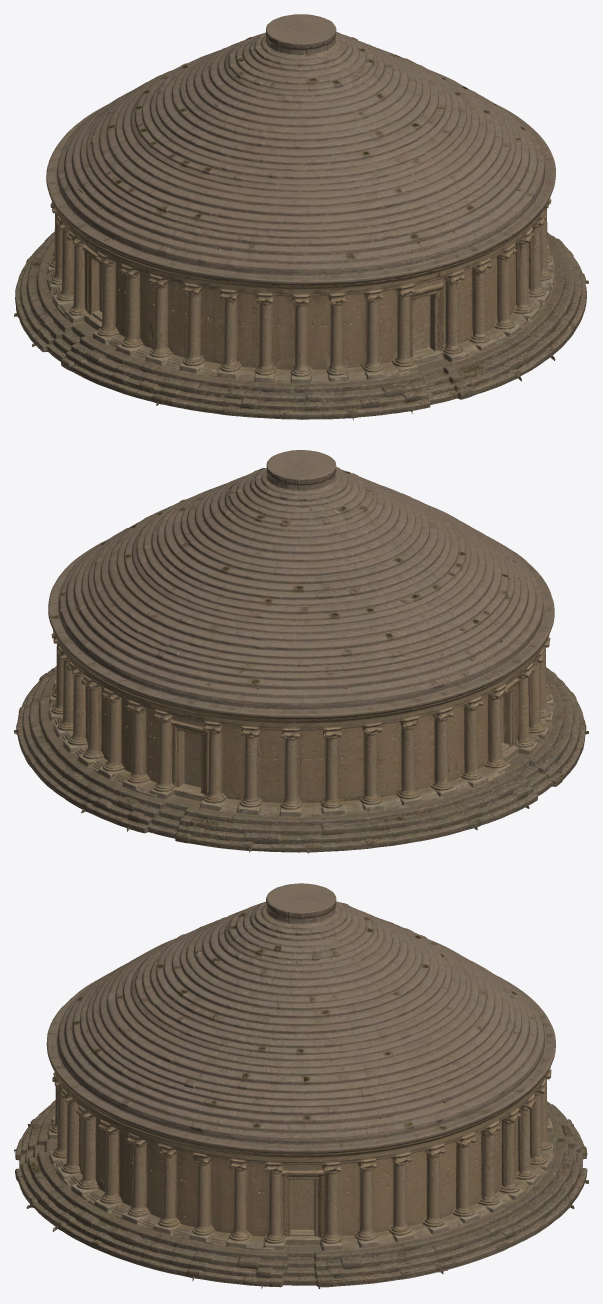
Rendered from mausolee.glb.
The picture shows the model from 3 angles, top to bottom: view 1: azimuth 30°, elevation 25°; view 2: azimuth 150°, elevation 25°; view 3: azimuth 270°, elevation 25°; orthographic projection.
Parts seen in each view (by area): view 1: tripo_node_98ed120e-1a5e-4108-8c57-9a7c738d145e; view 2: tripo_node_98ed120e-1a5e-4108-8c57-9a7c738d145e; view 3: tripo_node_98ed120e-1a5e-4108-8c57-9a7c738d145e.
Part boxes in pixels (x1,y1,x2,y2): tripo_node_98ed120e-1a5e-4108-8c57-9a7c738d145e: (14, 14, 588, 420); tripo_node_98ed120e-1a5e-4108-8c57-9a7c738d145e: (14, 450, 588, 853); tripo_node_98ed120e-1a5e-4108-8c57-9a7c738d145e: (14, 883, 588, 1288).
Size of the model in its own units: 0.9822 by 0.513 by 0.9844.
Materials: 1 (1 with a texture image).
